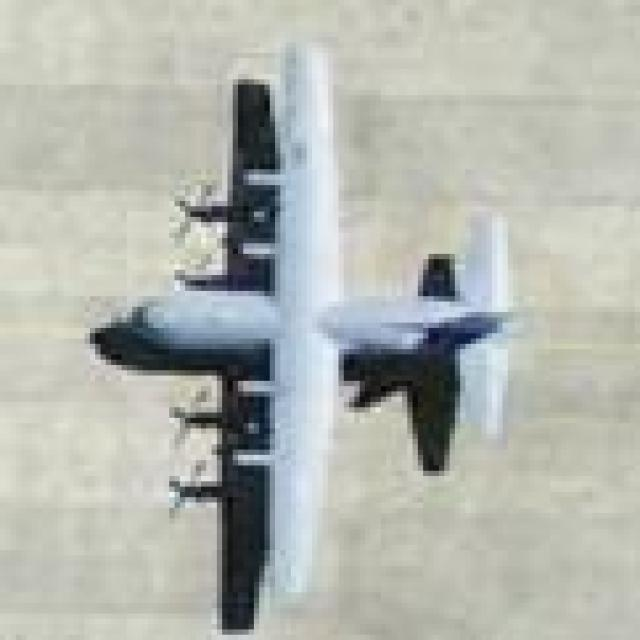C-130_TopDown: (91, 33, 523, 633)
